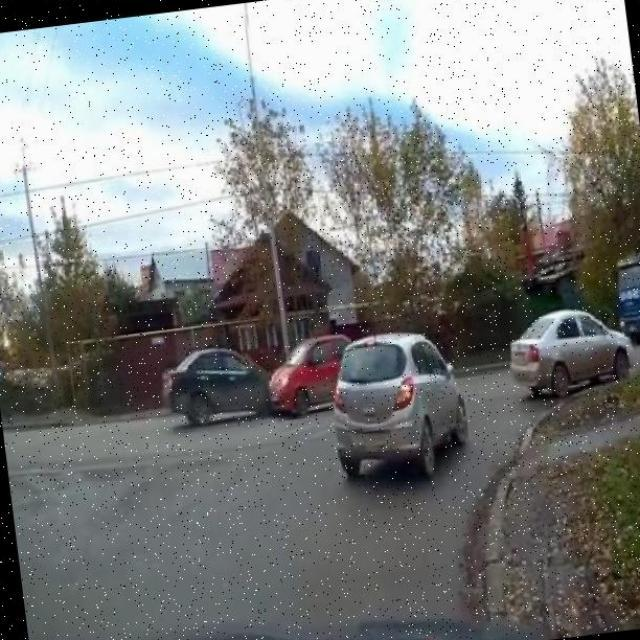accident: (153, 325, 363, 435)
